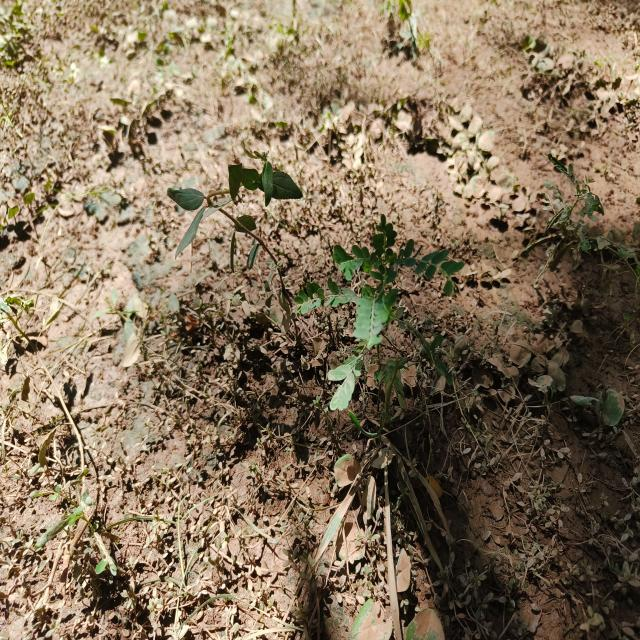weed: (311, 224, 466, 421), (163, 171, 307, 304)
